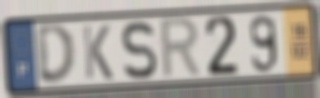2: (204, 14, 242, 78)
9: (248, 13, 279, 74)
D: (34, 22, 78, 88)
K: (80, 23, 116, 82)
R: (159, 14, 205, 82)
S: (120, 19, 159, 82)
